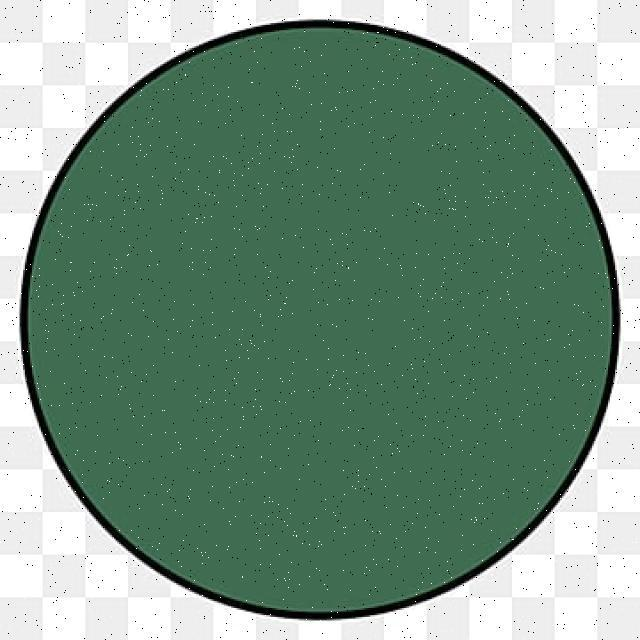Circle: (18, 20, 622, 624)
